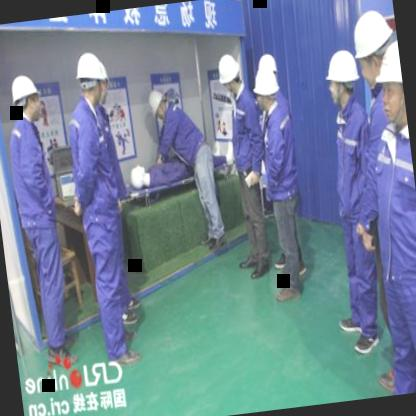helmet: (349, 4, 399, 90), (370, 38, 406, 130), (318, 46, 363, 110), (3, 69, 46, 132), (72, 47, 106, 105), (250, 69, 282, 114), (215, 50, 243, 92), (92, 58, 114, 106), (144, 84, 170, 123), (255, 52, 280, 84)
